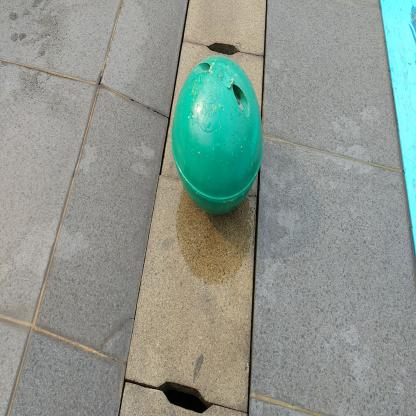green_buoy: (171, 51, 266, 219)
